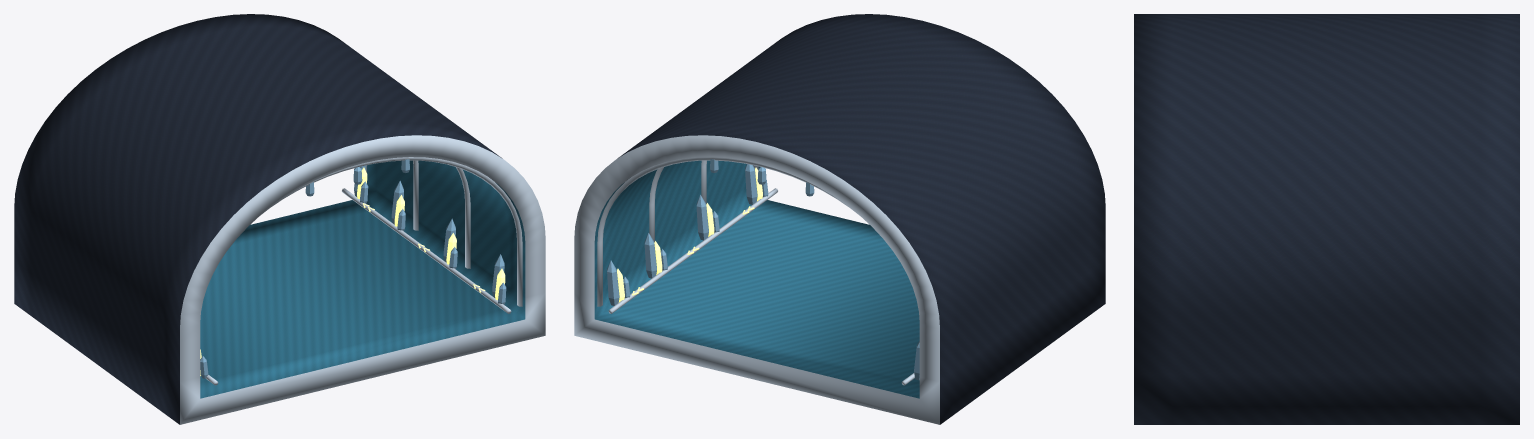
The model's file is straight_12m.glb.
The picture shows the model from 3 angles, left to right: view 1: azimuth 30°, elevation 25°; view 2: azimuth 150°, elevation 25°; view 3: azimuth 270°, elevation 25°; orthographic projection. The views are drawn at different scales.
Parts seen in each view (by area): view 1: TunnelGeometry; view 2: TunnelGeometry; view 3: TunnelGeometry.
Boxes of the visible parts, <box> form: TunnelGeometry: <box>14,14,545,424</box>; TunnelGeometry: <box>574,14,1105,424</box>; TunnelGeometry: <box>1134,14,1519,424</box>.
Size of the model in its own units: 15.3 by 9.52 by 12.
5 materials, 2 textured.
